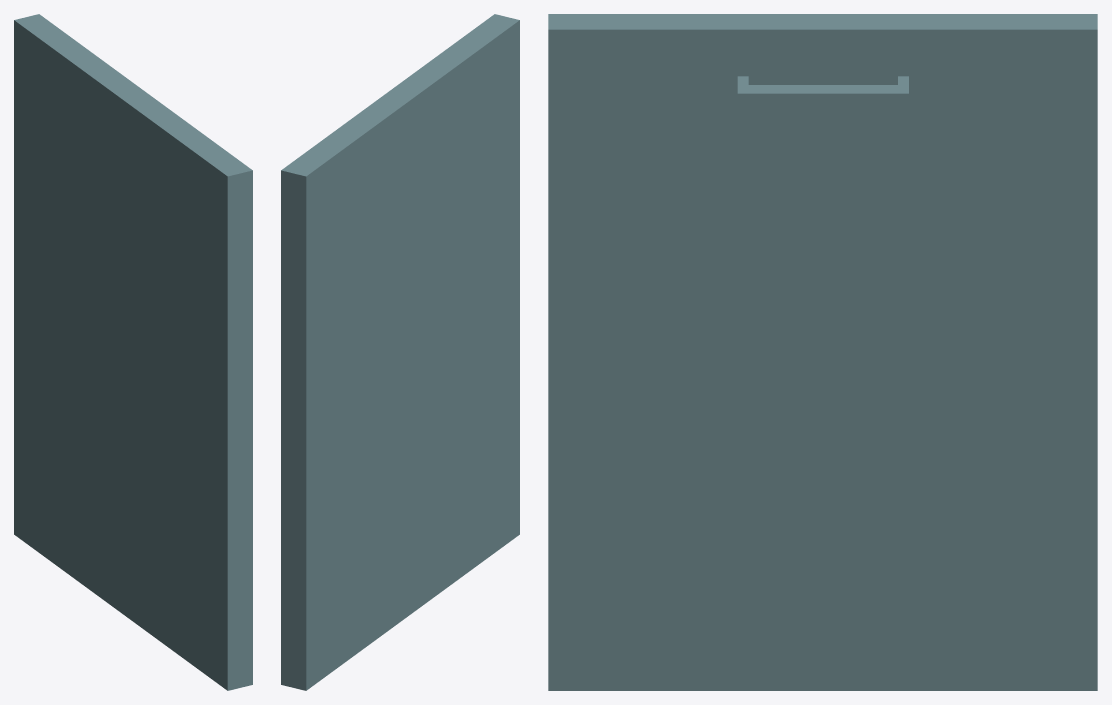
Rendered from Cabinet_Big_Door.003.fbx.
3 renders of one model, left to right at view 1: azimuth 30°, elevation 25°; view 2: azimuth 150°, elevation 25°; view 3: azimuth 270°, elevation 25°, orthographic. The views are drawn at different scales.
Parts seen in each view (by area): view 1: Cabinet_Big_Door.003; view 2: Cabinet_Big_Door.003; view 3: Cabinet_Big_Door.003.
Part boxes in pixels (<box>): Cabinet_Big_Door.003: <box>14,14,252,690</box>; Cabinet_Big_Door.003: <box>281,14,519,690</box>; Cabinet_Big_Door.003: <box>548,14,1097,690</box>.
Bounding box in the file's own units: 7.26 × 67.34 × 50.7.
